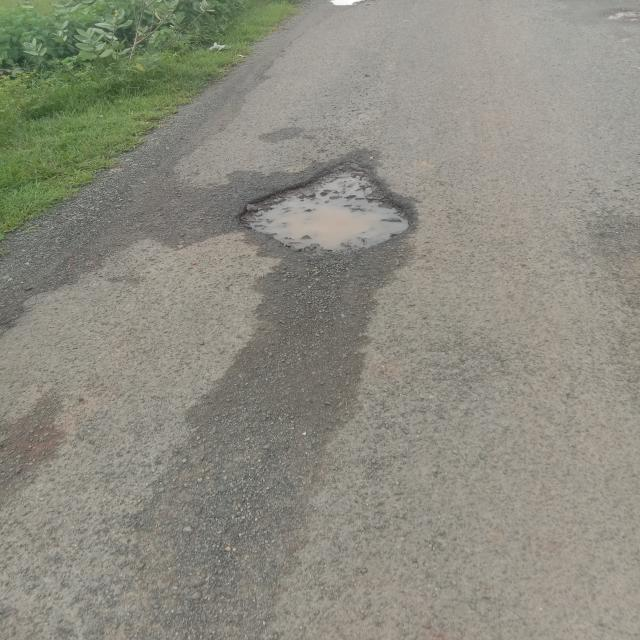potholes: (238, 153, 422, 258)
